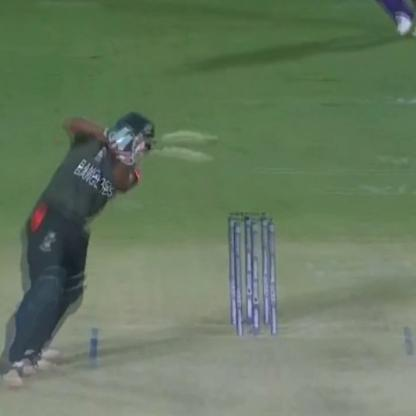bat: (124, 132, 232, 164)
pitch: (4, 299, 416, 407)
